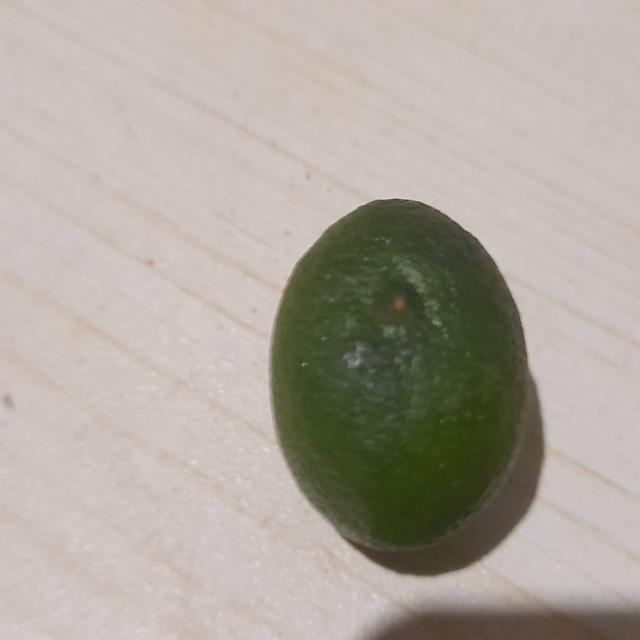heathy: (270, 188, 546, 563)
